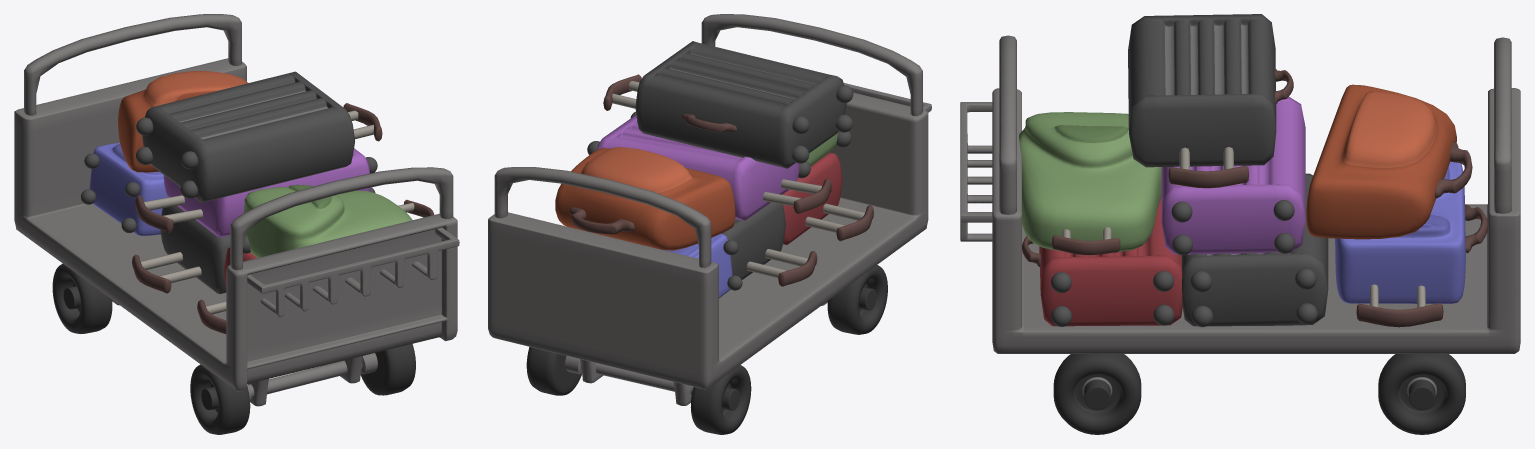
Rendered from cart#3.fbx.
3 renders of one model, left to right at view 1: azimuth 30°, elevation 25°; view 2: azimuth 150°, elevation 25°; view 3: azimuth 270°, elevation 25°, orthographic. The views are drawn at different scales.
Parts seen in each view (by area): view 1: pCube42, polySurface75, pCube43, polySurface73, polySurface71, polySurface72, polySurface74, polySurface70; view 2: pCube42, polySurface75, polySurface74, polySurface73, polySurface71, polySurface70, polySurface72, pCube43; view 3: pCube42, polySurface75, polySurface74, pCube43, polySurface73, polySurface72, polySurface70, polySurface71.
Boxes of the visible parts, bbox=[...] form: pCube42: bbox=[14, 14, 459, 434]; polySurface75: bbox=[136, 71, 382, 202]; pCube43: bbox=[243, 184, 434, 257]; polySurface73: bbox=[135, 148, 377, 237]; polySurface71: bbox=[132, 206, 230, 293]; polySurface72: bbox=[81, 142, 168, 235]; polySurface74: bbox=[118, 71, 248, 172]; polySurface70: bbox=[197, 247, 256, 334]; pCube42: bbox=[488, 14, 931, 434]; polySurface75: bbox=[603, 41, 853, 168]; polySurface74: bbox=[555, 147, 735, 250]; polySurface73: bbox=[587, 111, 831, 220]; polySurface71: bbox=[721, 202, 817, 286]; polySurface70: bbox=[782, 152, 873, 244]; polySurface72: bbox=[663, 233, 742, 298]; pCube43: bbox=[798, 131, 851, 178]; pCube42: bbox=[960, 35, 1520, 434]; polySurface75: bbox=[1128, 14, 1293, 188]; polySurface74: bbox=[1306, 84, 1472, 239]; pCube43: bbox=[1019, 112, 1161, 255]; polySurface73: bbox=[1161, 97, 1305, 255]; polySurface72: bbox=[1335, 162, 1487, 327]; polySurface70: bbox=[1022, 196, 1182, 326]; polySurface71: bbox=[1182, 173, 1328, 327].
Bounding box in the file's own units: 7.13 × 7.98 × 12.59.
